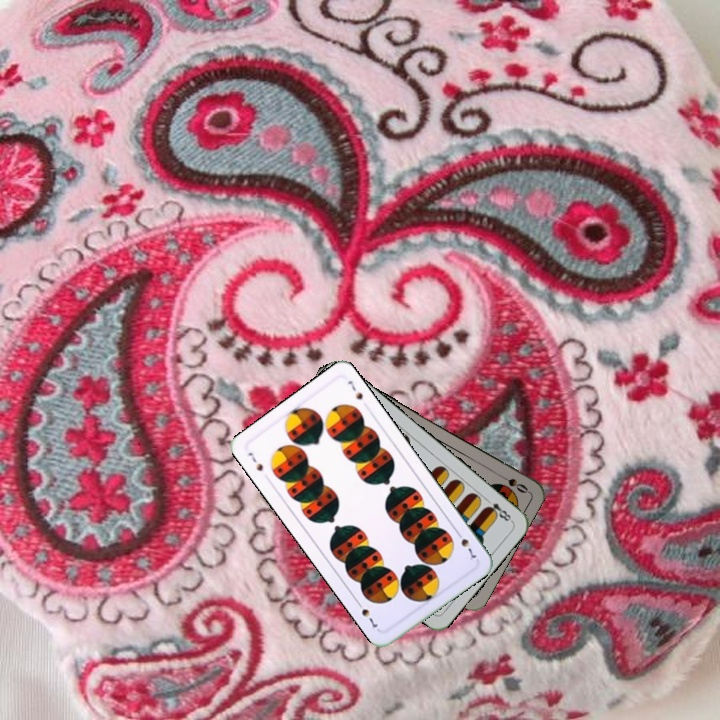E8: (481, 494, 515, 524)
S7: (452, 527, 478, 563), (244, 448, 266, 474)
SO: (493, 469, 531, 496)
